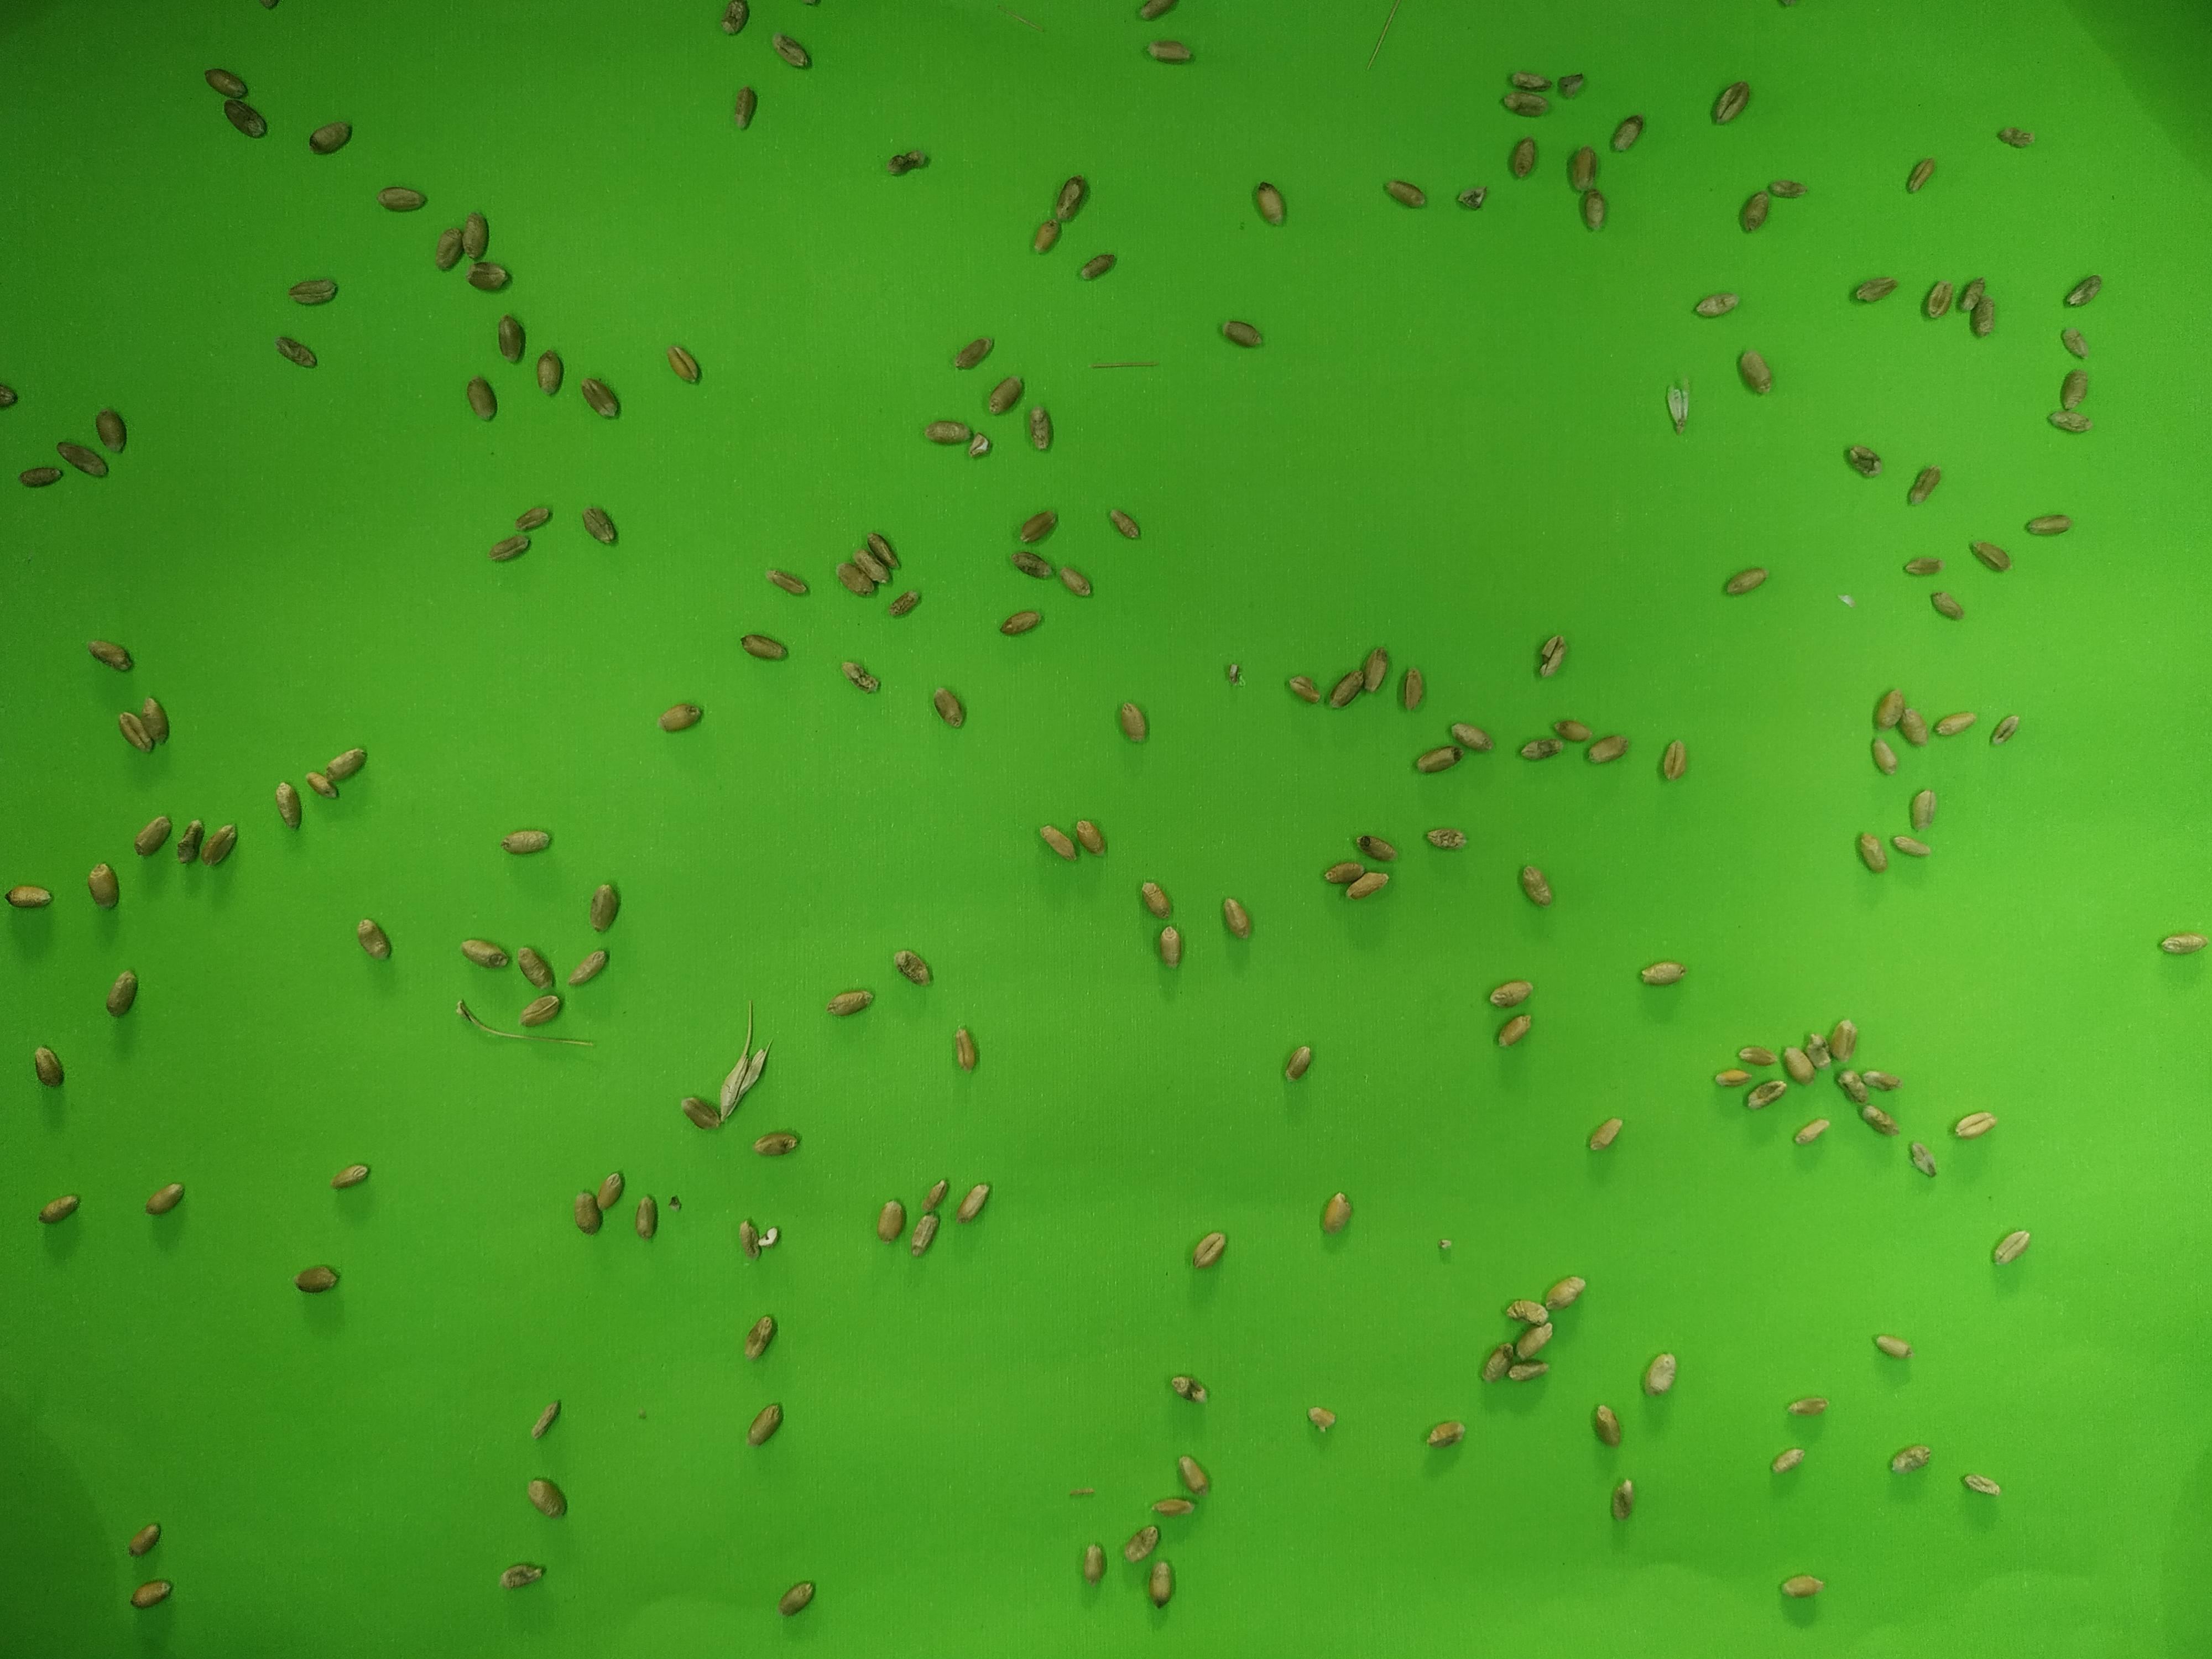bueno: (1510, 1312, 1554, 1362), (1048, 174, 1090, 225), (1641, 1346, 1681, 1399), (513, 943, 556, 991), (223, 97, 269, 142), (56, 439, 107, 477), (107, 964, 141, 1021), (1736, 345, 1773, 397), (985, 371, 1027, 417), (745, 1399, 785, 1447), (588, 880, 624, 933), (770, 30, 814, 72), (1173, 1449, 1213, 1496), (745, 1311, 780, 1363), (1410, 744, 1464, 778), (524, 1477, 567, 1518), (932, 685, 969, 733), (1744, 1076, 1792, 1114), (462, 373, 499, 422), (1872, 682, 1909, 732), (776, 1574, 815, 1620), (658, 701, 708, 735), (1590, 1400, 1625, 1451), (133, 814, 172, 859), (1567, 145, 1601, 196), (581, 374, 620, 419), (1848, 273, 1899, 306), (201, 821, 236, 870), (1545, 1272, 1589, 1311), (458, 935, 509, 969), (286, 276, 338, 309), (145, 1178, 188, 1217), (274, 779, 305, 832), (1218, 316, 1266, 351), (668, 340, 702, 389), (290, 1261, 341, 1294), (1360, 643, 1391, 695), (1518, 861, 1553, 907), (1692, 290, 1742, 322), (38, 1188, 82, 1225), (1191, 1227, 1228, 1271), (1383, 176, 1428, 213), (851, 545, 891, 586), (952, 332, 993, 372), (1971, 536, 2012, 575), (308, 121, 354, 156), (1446, 720, 1494, 754), (119, 709, 156, 753), (865, 530, 902, 573), (1322, 1187, 1356, 1234), (1903, 465, 1942, 506), (834, 561, 876, 599), (741, 633, 792, 664), (1585, 731, 1631, 765), (500, 827, 553, 857), (2066, 271, 2106, 310), (1327, 668, 1366, 708), (567, 950, 609, 987), (1888, 1440, 1934, 1475), (571, 1188, 604, 1235), (1253, 176, 1284, 227), (462, 210, 491, 264), (1498, 88, 1551, 118), (1993, 1228, 2034, 1265), (731, 80, 760, 133), (139, 691, 169, 744), (1019, 506, 1060, 544), (1115, 698, 1148, 745), (498, 313, 527, 366), (1141, 35, 1194, 64), (2, 881, 55, 910), (2157, 930, 2210, 958), (1608, 1473, 1636, 1526), (87, 639, 133, 672), (1496, 1011, 1536, 1048), (357, 917, 392, 961), (87, 859, 118, 909), (1737, 191, 1771, 236), (682, 1092, 721, 1131), (325, 747, 369, 781), (1424, 1415, 1468, 1449), (94, 408, 127, 453), (1037, 823, 1078, 859), (1125, 1525, 1160, 1566), (1489, 978, 1537, 1008), (1855, 831, 1887, 875), (874, 1197, 907, 1242), (2025, 510, 2074, 540), (468, 260, 513, 293), (2059, 367, 2090, 413), (1510, 134, 1540, 182), (1657, 734, 1687, 782), (1725, 564, 1768, 597), (764, 566, 811, 596), (1831, 1015, 1861, 1062), (1640, 958, 1692, 986), (1579, 188, 1611, 232), (924, 418, 973, 446), (376, 185, 427, 213), (1907, 788, 1938, 833), (910, 1211, 941, 1256), (1895, 706, 1929, 747), (959, 1180, 993, 1220), (827, 988, 875, 1017), (752, 1129, 800, 1158), (488, 532, 530, 565), (999, 609, 1045, 639), (538, 348, 564, 399), (33, 1045, 64, 1088), (329, 1160, 372, 1191), (1954, 1111, 1999, 1141), (1105, 505, 1143, 541), (954, 1022, 980, 1073), (1589, 1116, 1627, 1151), (204, 67, 248, 98), (435, 227, 462, 275), (1347, 867, 1391, 898), (1220, 894, 1249, 941), (1866, 735, 1899, 776), (1934, 708, 1979, 738), (594, 1168, 625, 1212), (1057, 562, 1094, 598), (1027, 405, 1055, 453), (1783, 1045, 1817, 1084), (1141, 879, 1173, 919), (127, 1521, 161, 1558), (1399, 661, 1424, 713), (129, 1579, 173, 1609), (1010, 549, 1052, 580), (523, 994, 564, 1025), (1958, 272, 1989, 312), (1924, 275, 1953, 320), (14, 464, 64, 489), (1073, 818, 1105, 857), (1908, 156, 1938, 198), (1793, 1115, 1833, 1146), (1931, 589, 1967, 624), (1150, 1559, 1176, 1607), (1514, 737, 1561, 763), (1081, 1538, 1109, 1581), (514, 500, 555, 531), (1156, 922, 1184, 966), (1357, 831, 1398, 860), (1031, 219, 1062, 257), (1908, 1140, 1939, 1178), (1151, 1494, 1197, 1520), (1735, 1041, 1778, 1068), (1780, 1573, 1824, 1599), (633, 1193, 658, 1239), (1890, 833, 1931, 861), (1961, 1470, 2003, 1498), (1286, 1043, 1314, 1083), (1079, 253, 1117, 283), (1872, 1333, 1912, 1361), (1971, 297, 1997, 339), (2059, 324, 2088, 361), (1286, 673, 1321, 704), (1324, 860, 1368, 885), (1768, 1445, 1804, 1475), (1510, 1358, 1550, 1384), (925, 1174, 953, 1213), (1553, 717, 1592, 744), (1992, 712, 2021, 748), (738, 1214, 760, 1260), (305, 772, 340, 801), (1905, 554, 1945, 578), (1714, 1066, 1750, 1089), (1786, 1397, 1827, 1417)
danado: (717, 994, 774, 1123), (1712, 78, 1755, 129), (894, 948, 937, 990), (1535, 633, 1569, 682), (1844, 442, 1884, 483), (274, 335, 321, 369), (497, 1561, 549, 1592), (1835, 1064, 1873, 1105), (585, 505, 621, 547), (886, 145, 930, 180), (840, 657, 882, 693), (883, 584, 922, 622), (1611, 111, 1646, 155), (175, 815, 205, 864), (1484, 1338, 1516, 1384), (1502, 1295, 1549, 1326), (1863, 1101, 1903, 1137), (533, 1396, 565, 1438), (1169, 1371, 1209, 1406), (2043, 409, 2095, 436), (1420, 825, 1468, 852), (1454, 181, 1494, 213), (1859, 1068, 1904, 1094), (1997, 122, 2036, 152), (721, 1, 752, 38), (1802, 1027, 1829, 1071), (1510, 67, 1553, 93), (1558, 70, 1588, 101), (1768, 180, 1812, 199)
impureza: (457, 999, 520, 1041), (1661, 374, 1691, 434), (1087, 354, 1167, 373), (520, 1033, 595, 1047), (1063, 1480, 1099, 1503), (758, 1221, 783, 1248), (1224, 657, 1245, 688), (665, 1191, 683, 1213), (1437, 1235, 1453, 1255)
partido: (1305, 1402, 1338, 1434), (966, 434, 995, 460)
